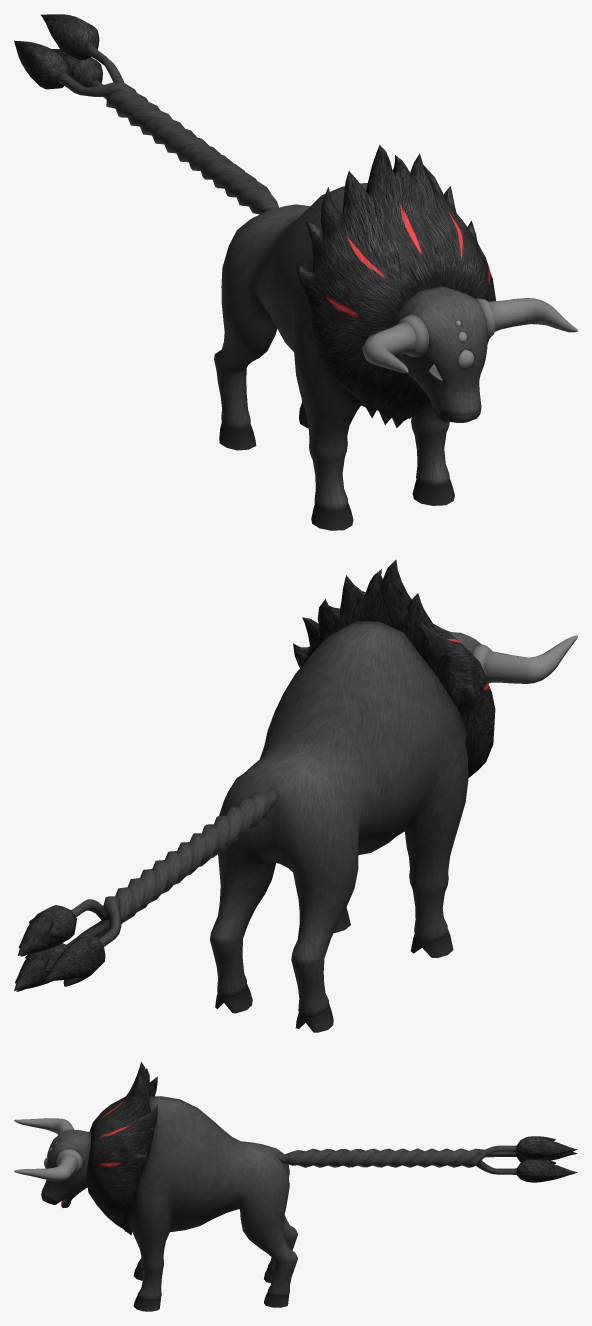
3 views of the same model, one above another, from view 1: azimuth 30°, elevation 25°; view 2: azimuth 150°, elevation 25°; view 3: azimuth 270°, elevation 25° (orthographic). The views are drawn at different scales.
Visible parts, largest first — view 1: pm0128_12_51_fur_mesh_shape_body_b, pm0128_12_51_body_mesh_shape_body_a_00, pm0128_12_51_tail_mesh_shape_body_b, pm0128_12_51_head_mesh_shape_body_a_00, pm0128_12_51_head_mesh_shape_body_a_01; view 2: pm0128_12_51_body_mesh_shape_body_a_00, pm0128_12_51_tail_mesh_shape_body_b, pm0128_12_51_fur_mesh_shape_body_b, pm0128_12_51_head_mesh_shape_body_a_01; view 3: pm0128_12_51_body_mesh_shape_body_a_00, pm0128_12_51_fur_mesh_shape_body_b, pm0128_12_51_tail_mesh_shape_body_b, pm0128_12_51_head_mesh_shape_body_a_00, pm0128_12_51_head_mesh_shape_body_a_01.
Part boxes in pixels (x1,y1,x2,y2): pm0128_12_51_fur_mesh_shape_body_b: (296, 144, 495, 427); pm0128_12_51_body_mesh_shape_body_a_00: (214, 183, 454, 530); pm0128_12_51_tail_mesh_shape_body_b: (14, 14, 278, 214); pm0128_12_51_head_mesh_shape_body_a_00: (395, 286, 487, 422); pm0128_12_51_head_mesh_shape_body_a_01: (362, 298, 577, 373); pm0128_12_51_body_mesh_shape_body_a_00: (210, 621, 468, 1032); pm0128_12_51_tail_mesh_shape_body_b: (14, 788, 277, 991); pm0128_12_51_fur_mesh_shape_body_b: (293, 559, 495, 777); pm0128_12_51_head_mesh_shape_body_a_01: (473, 635, 577, 683); pm0128_12_51_body_mesh_shape_body_a_00: (125, 1096, 297, 1311); pm0128_12_51_fur_mesh_shape_body_b: (86, 1061, 157, 1235); pm0128_12_51_tail_mesh_shape_body_b: (277, 1136, 577, 1182); pm0128_12_51_head_mesh_shape_body_a_00: (41, 1130, 90, 1207); pm0128_12_51_head_mesh_shape_body_a_01: (14, 1118, 82, 1181).
Size of the model in its own units: 0.8277 by 1.58 by 3.56.
Materials: 5 (5 with a texture image).
